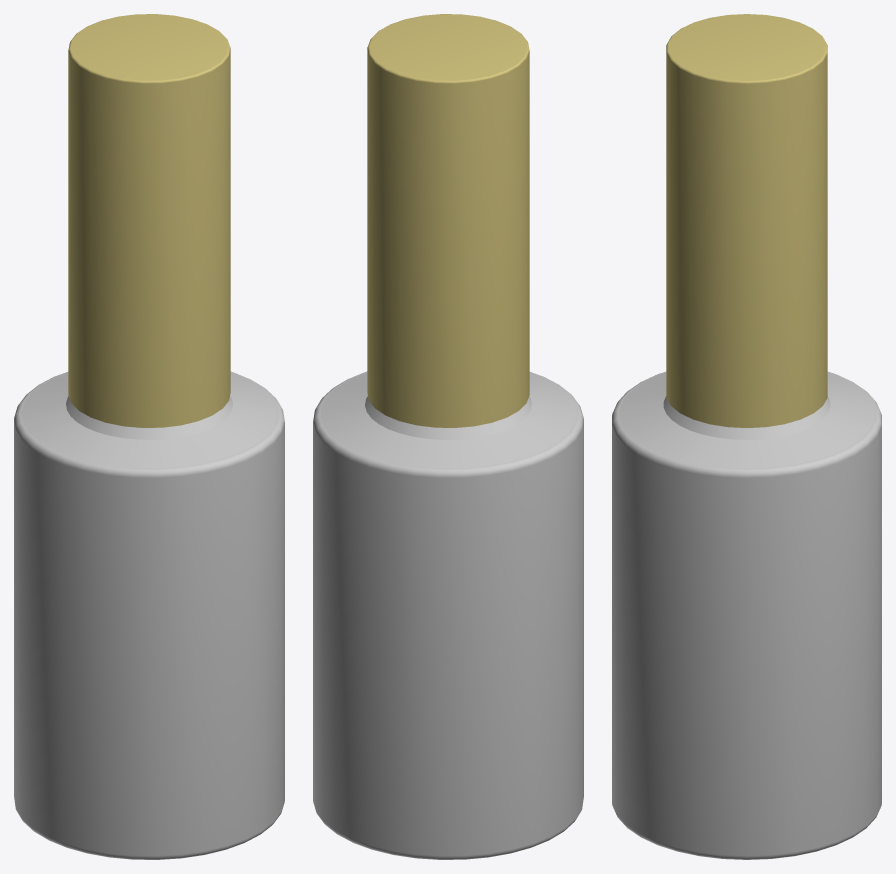
3 views of the same model, side by side, from view 1: azimuth 30°, elevation 25°; view 2: azimuth 150°, elevation 25°; view 3: azimuth 270°, elevation 25° (orthographic).
Parts seen in each view (by area): view 1: body, stem; view 2: body, stem; view 3: body, stem.
Boxes of the visible parts, left/top/right/bottom form: body: left=14, top=371, right=284, bottom=859; stem: left=68, top=14, right=230, bottom=427; body: left=313, top=371, right=583, bottom=859; stem: left=367, top=14, right=529, bottom=427; body: left=612, top=371, right=881, bottom=859; stem: left=666, top=14, right=827, bottom=427.
Bounding box in the file's own units: 0.0227 × 0.07 × 0.0226.
